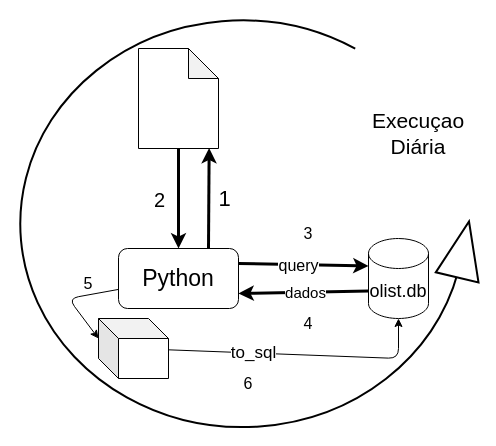
Image size: 496x446. Some labels were removed from this diagram. Here are the shapes that lost their labels. From the top down, the centre of each, then its label:
pixel 178 98: etl.sql
pixel 133 348: ML
